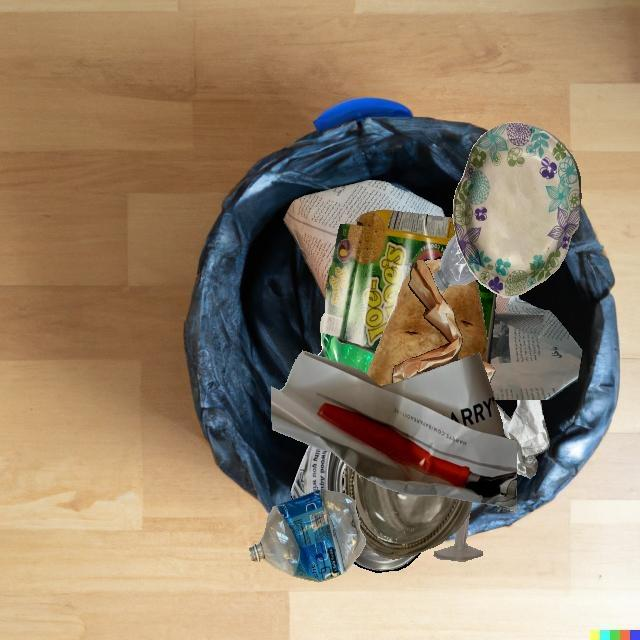biowaste: (366, 274, 449, 386), (424, 259, 487, 362)
cardboard: (453, 123, 581, 298), (320, 210, 455, 354)
glass: (344, 463, 472, 559), (434, 512, 483, 561)
metal: (291, 444, 346, 500), (353, 545, 421, 572)
paper: (271, 350, 517, 513), (284, 180, 445, 302), (490, 294, 582, 400), (392, 260, 463, 384), (495, 400, 549, 478)
plastic: (249, 490, 366, 582), (433, 234, 477, 291), (318, 332, 374, 374)
